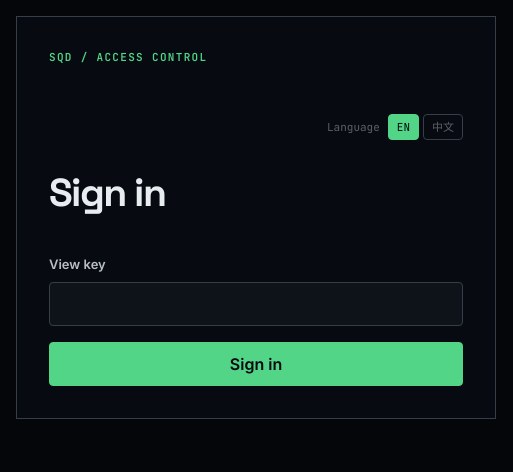
Test: createSession 429 shows rate limited copy
Type "k" into the password field labelled "View key" at (256, 304), box [49,282,463,326]
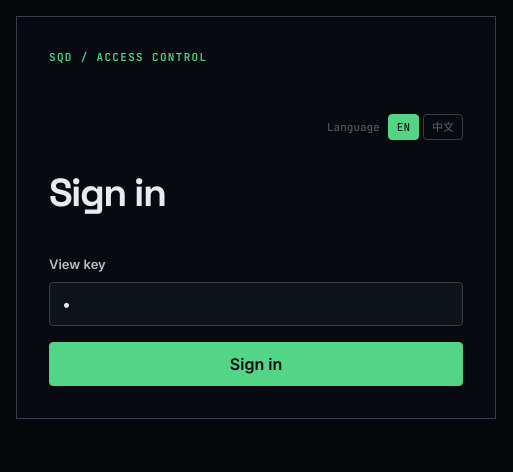
Click the button "Sign in" at (256, 364), box [49,342,463,386]
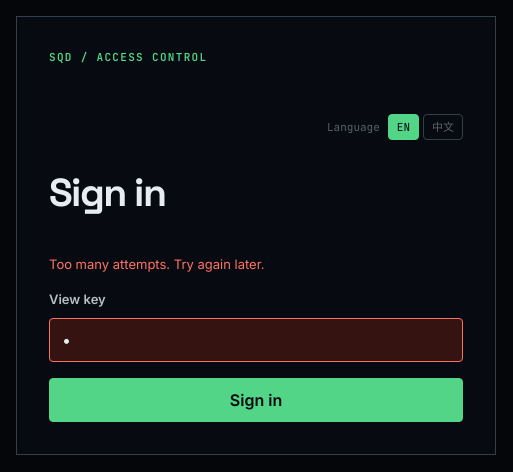
Expected: the text "Too many attempts. Try again later." is shown, [49,256,264,272]
